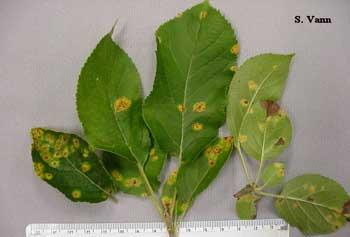Apple rust leaf: (139, 1, 243, 171), (71, 27, 158, 174), (229, 46, 301, 176), (23, 123, 115, 208), (267, 172, 350, 235)
